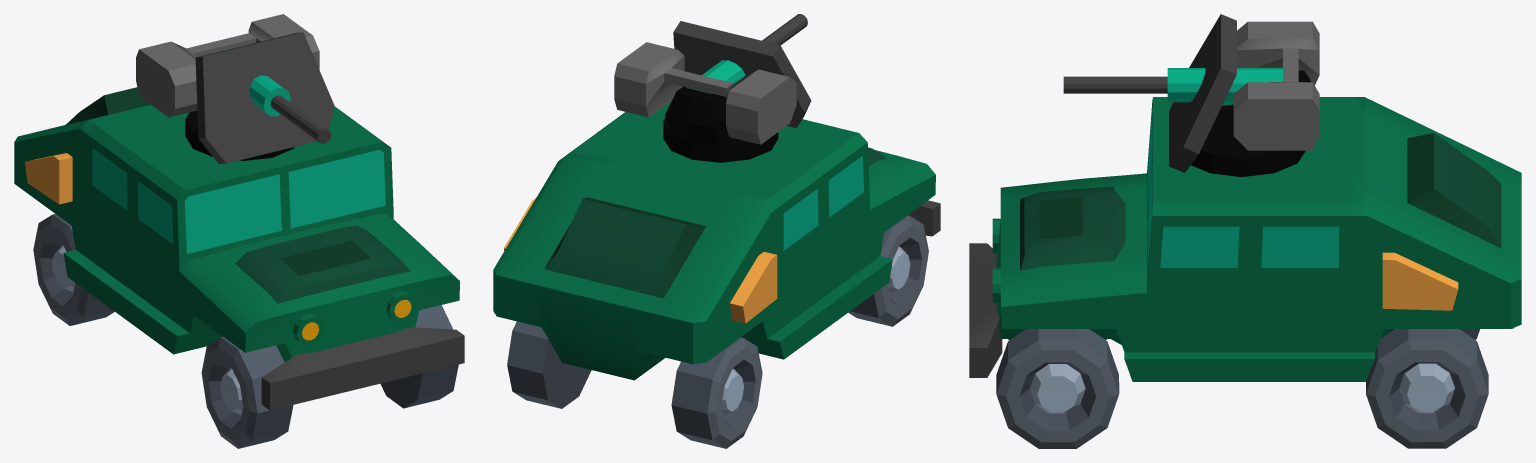
The model's file is Armored_Vehicles2.fbx.
3 renders of one model, left to right at view 1: azimuth 30°, elevation 25°; view 2: azimuth 150°, elevation 25°; view 3: azimuth 270°, elevation 25°, orthographic. The views are drawn at different scales.
Parts seen in each view (by area): view 1: Body, Turret, Tie3, Tie, Tie2; view 2: Body, Turret, Tie, Tie3, Tie1; view 3: Body, Turret, Tie2, Tie1.
Boxes of the visible parts, x1,y1,x2,y2 form: Body: (14, 87, 464, 410); Turret: (136, 14, 334, 164); Tie3: (201, 337, 293, 448); Tie: (33, 214, 114, 325); Tie2: (380, 305, 458, 408); Body: (493, 101, 940, 380); Turret: (614, 14, 811, 162); Tie: (671, 337, 762, 448); Tie3: (848, 215, 928, 326); Tie1: (507, 321, 591, 408); Body: (969, 97, 1521, 381); Turret: (1063, 14, 1319, 177); Tie2: (996, 329, 1119, 448); Tie1: (1366, 329, 1488, 448).
Bounding box in the file's own units: 143 × 181 × 257.
